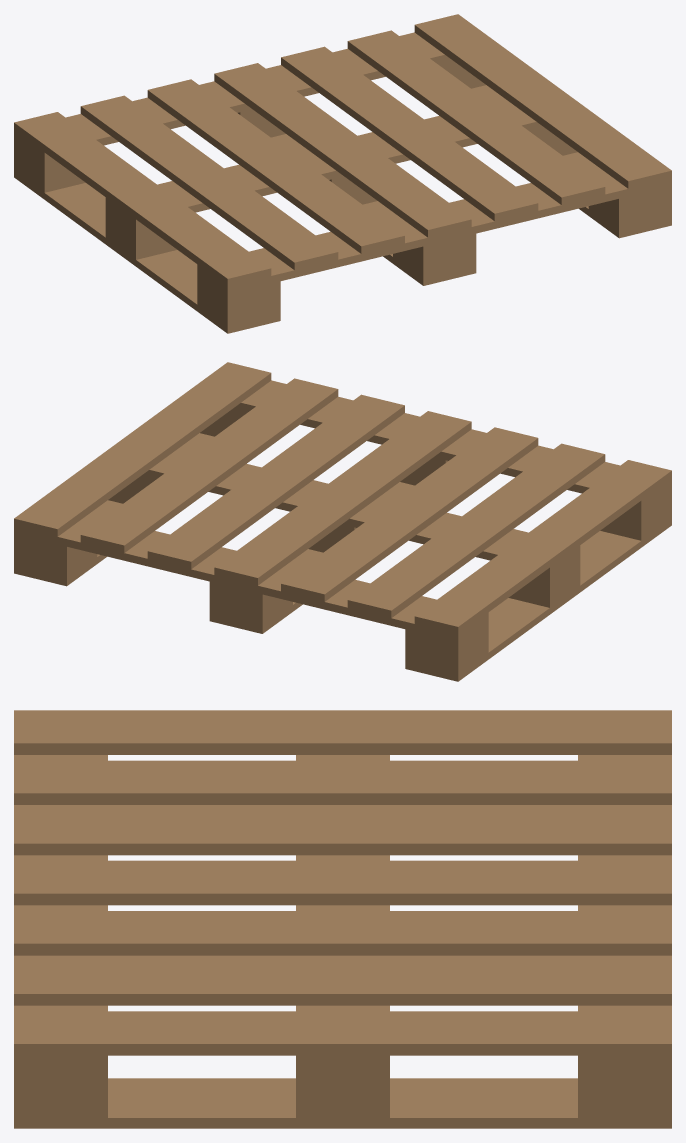
The model's file is pallet.glb.
The picture shows the model from 3 angles, top to bottom: view 1: azimuth 30°, elevation 25°; view 2: azimuth 150°, elevation 25°; view 3: azimuth 270°, elevation 25°; orthographic projection. The views are drawn at different scales.
Parts seen in each view (by area): view 1: body; view 2: body; view 3: body.
Boxes of the visible parts, box(x1,y1,x2,y2) form: body: box(14, 14, 671, 333); body: box(14, 362, 671, 681); body: box(14, 710, 671, 1128).
Size of what is drawn, in the model's own units: 1.22 by 0.144 by 1.02.
